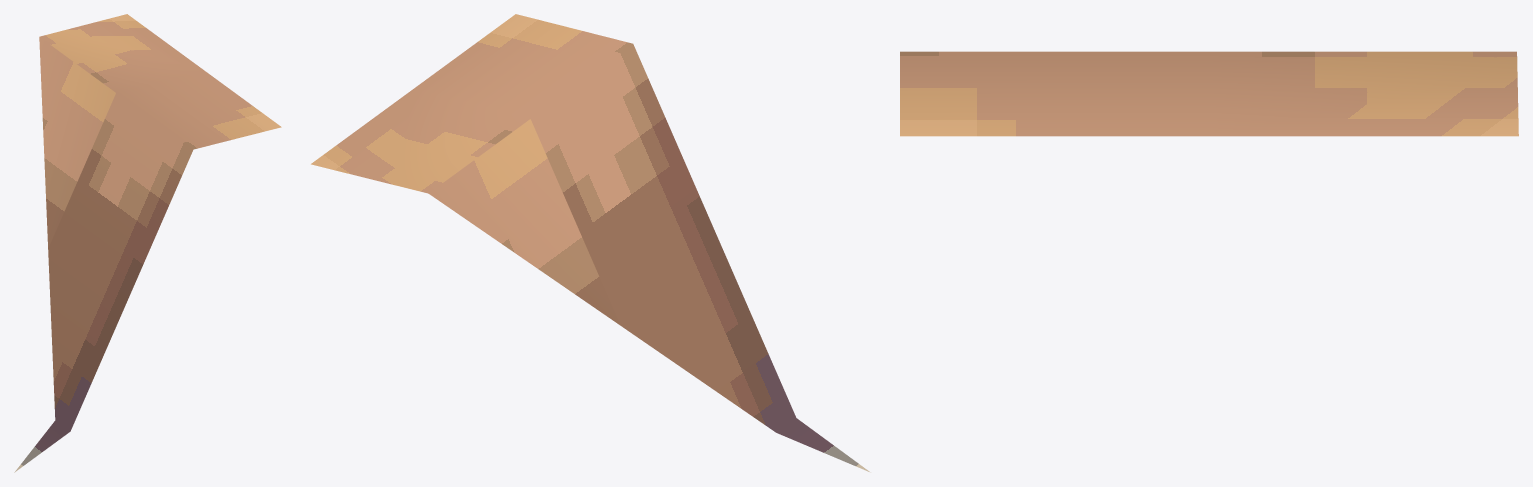
The model's file is falaise-cotiere-compacte-noeud-13.glb.
3 views of the same model, side by side, from view 1: azimuth 30°, elevation 25°; view 2: azimuth 150°, elevation 25°; view 3: azimuth 270°, elevation 25° (orthographic). The views are drawn at different scales.
Size of the model in its own units: 1 by 1 by 1.
2 materials, 2 textured.
